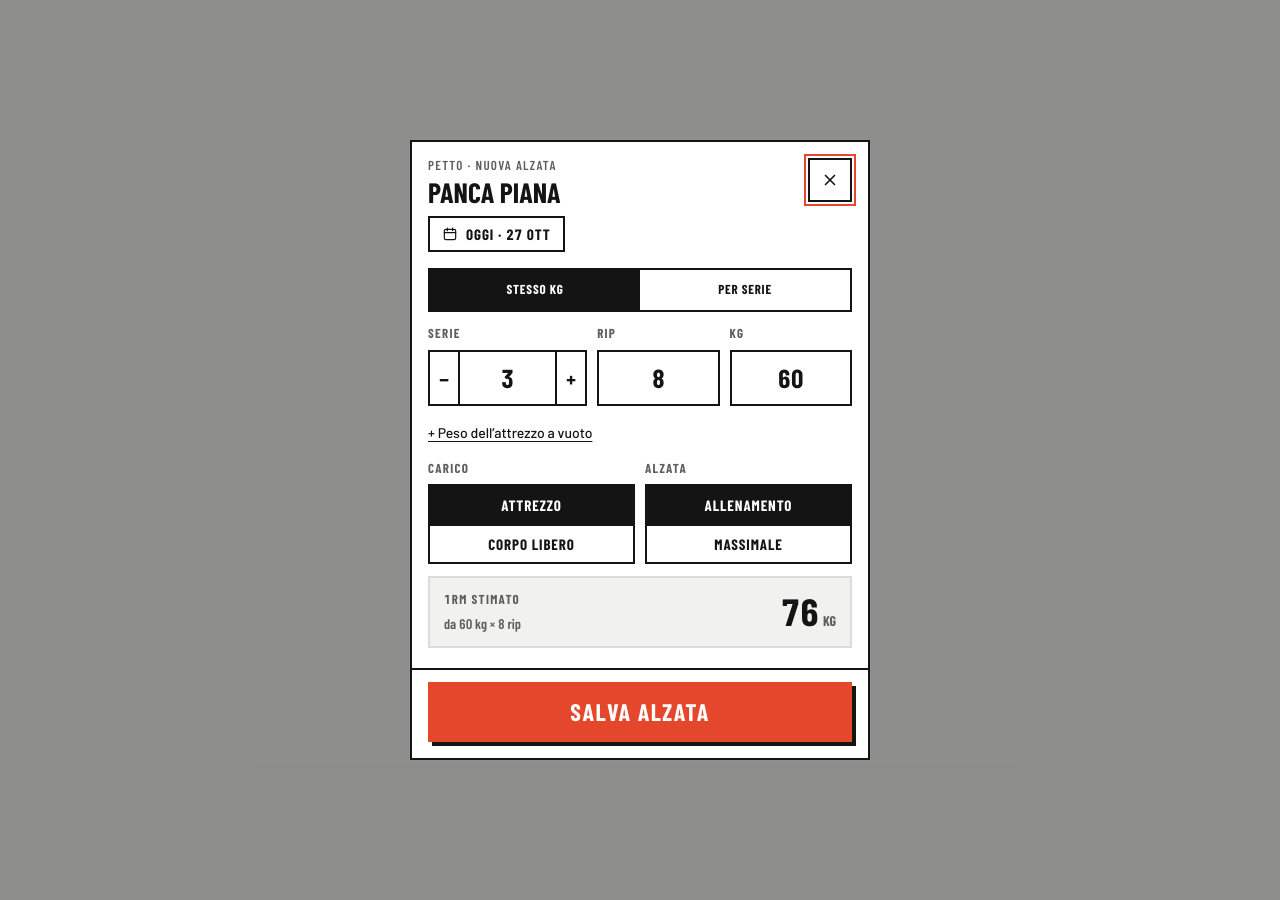
Test: nuova alzata: «Salva» dice cosa manca › senza serie o senza colpi lo dice, ognuno col suo campo
Check: the button "Salva alzata" is shown, box [428,682,852,742]
Clear the field named "Serie" at (508, 378), box [460,352,555,404]
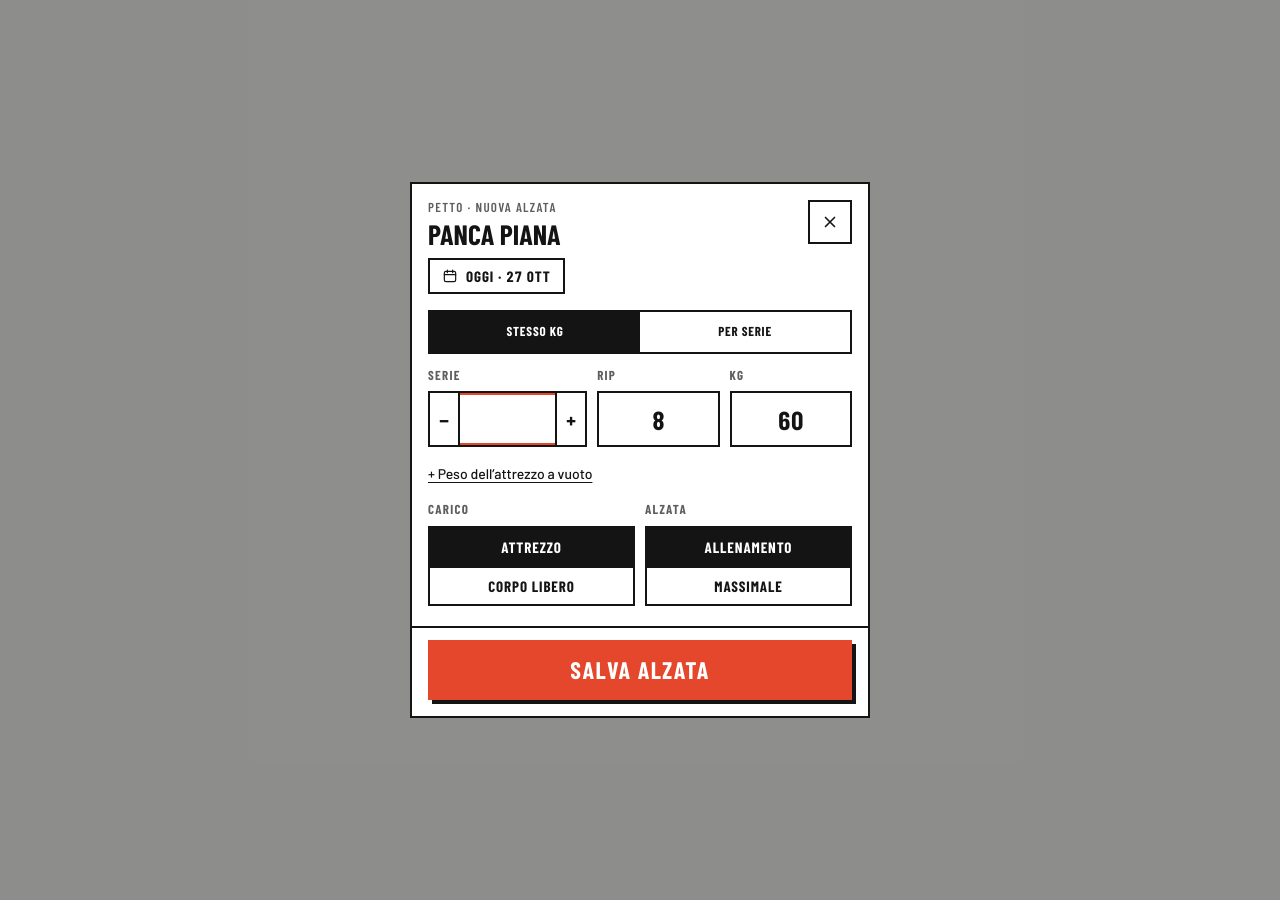
Click the button "Salva alzata" at (640, 670), box [428,640,852,700]
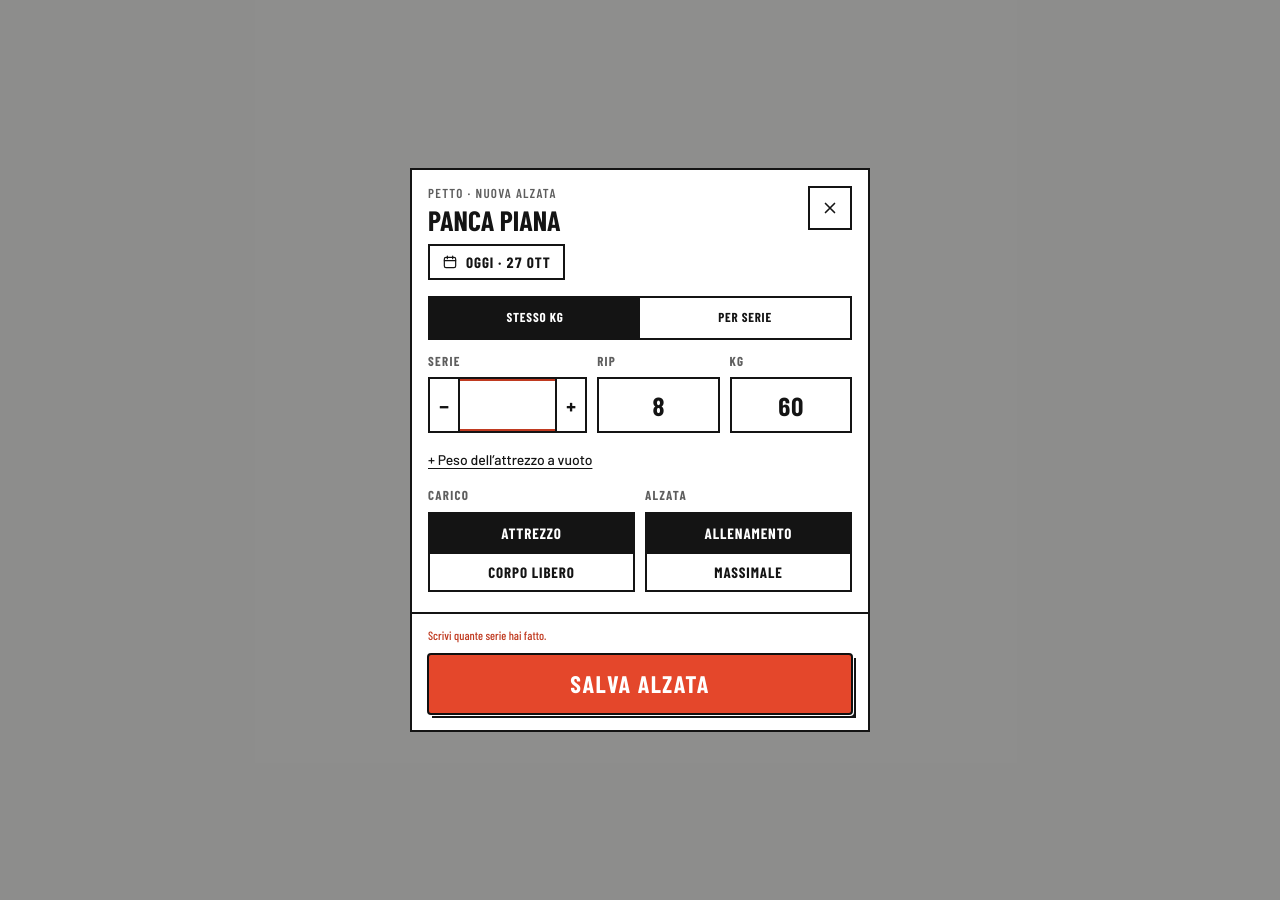
Check: the message reads "Scrivi quante serie hai fatto.", box [428,628,546,642]
Type "3" into the field named "Serie" at (508, 405), box [460,379,555,431]
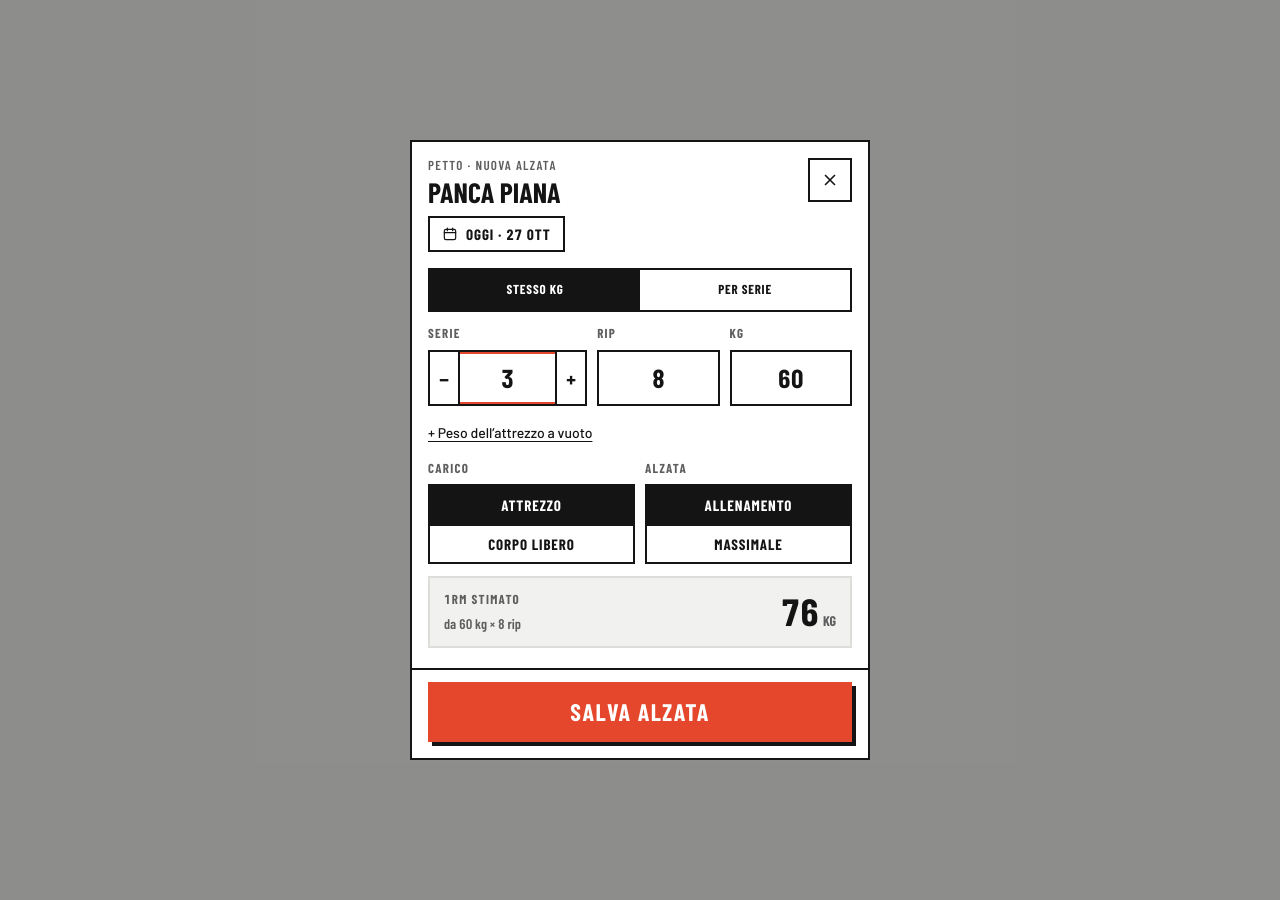
Clear the field named "Colpi" at (658, 378), box [599,352,718,404]
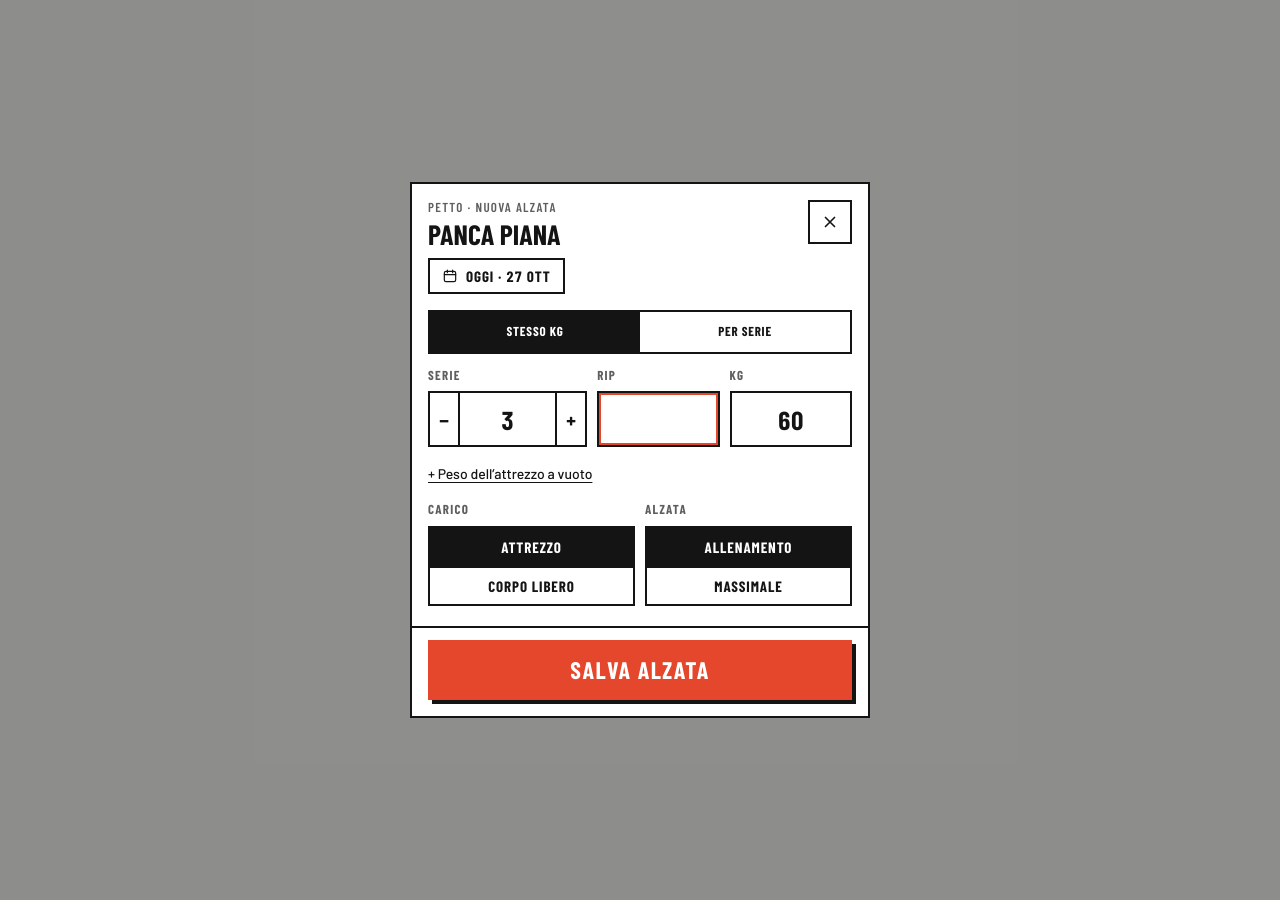
Click the button "Salva alzata" at (640, 670), box [428,640,852,700]
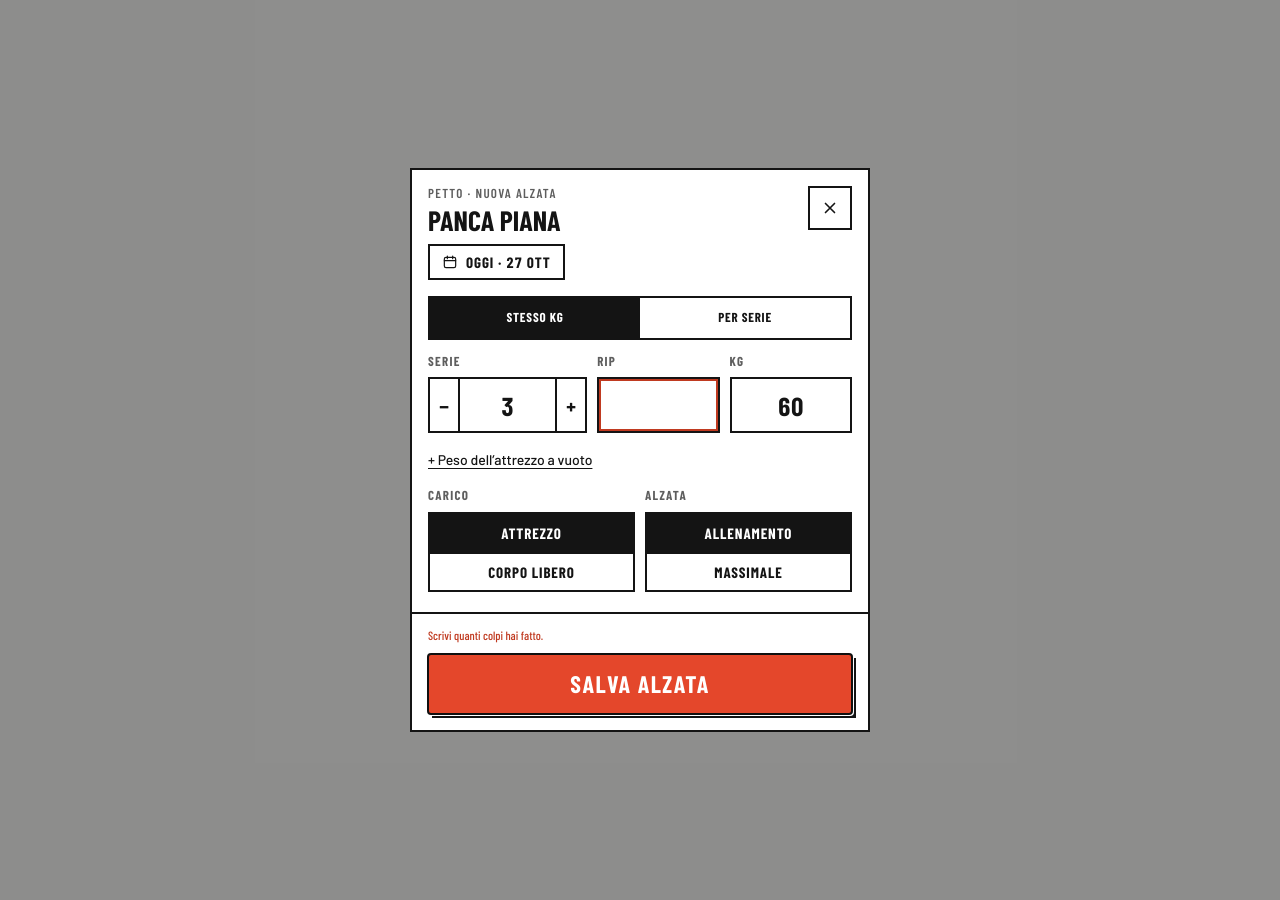
Check: the message reads "Scrivi quanti colpi hai fatto.", box [428,628,543,642]
